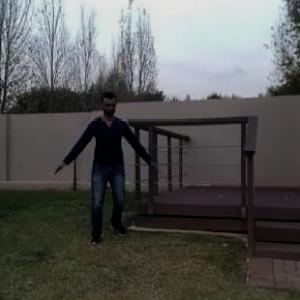land: (58, 82, 161, 260)
